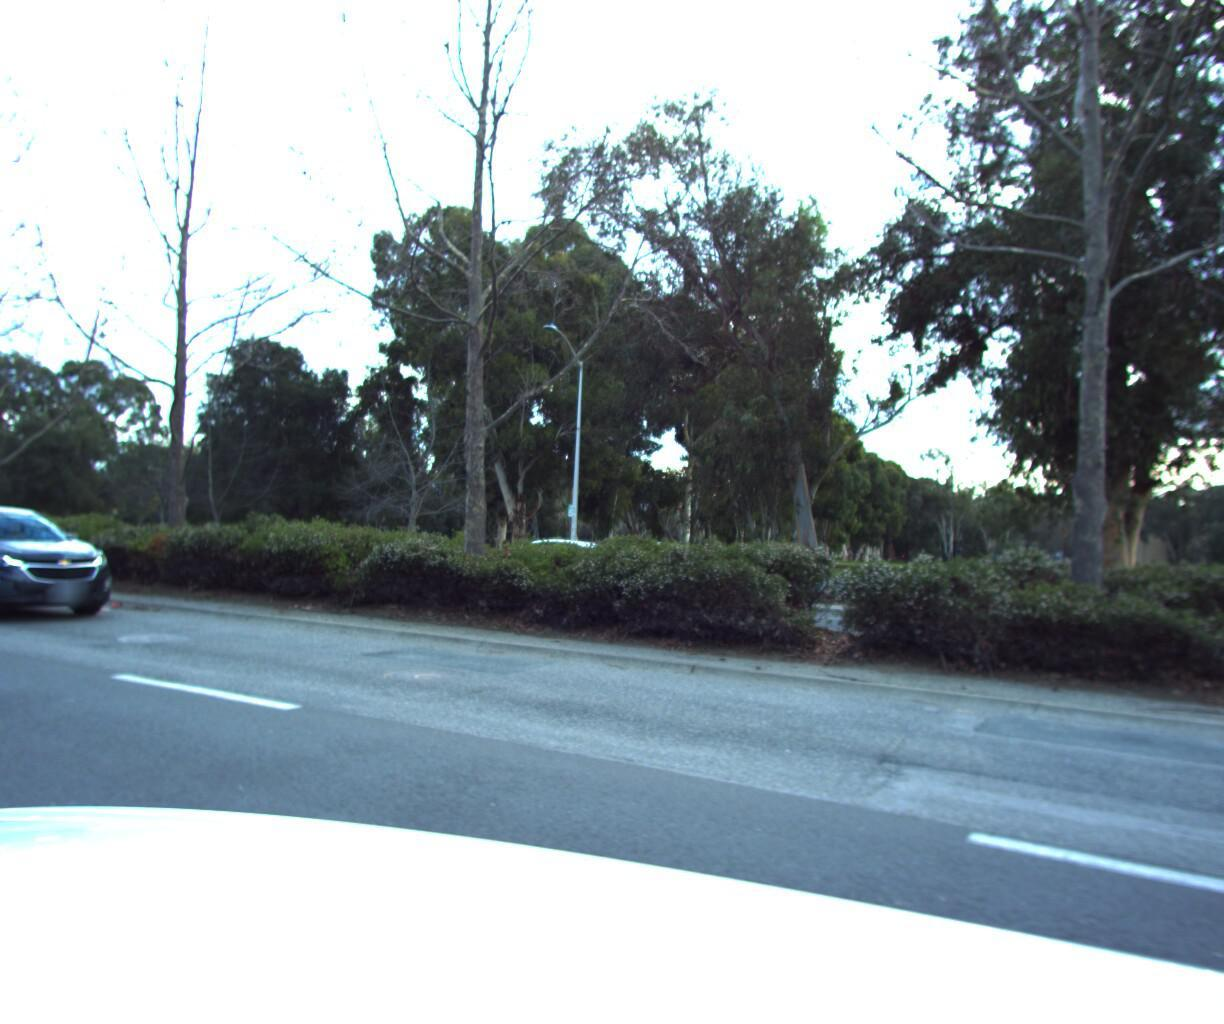car: (442, 521, 672, 623), (0, 499, 130, 628)
